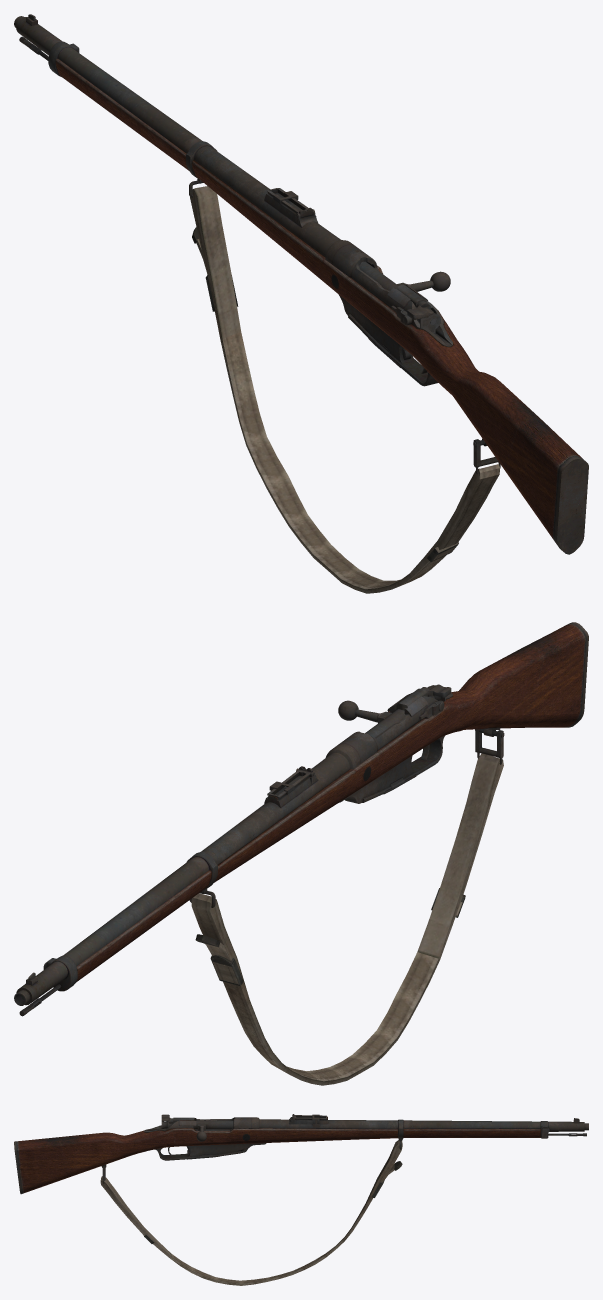
File: hanyang.glb
3 renders of one model, top to bottom at view 1: azimuth 30°, elevation 25°; view 2: azimuth 150°, elevation 25°; view 3: azimuth 270°, elevation 25°, orthographic. The views are drawn at different scales.
Visible parts, largest first — view 1: hanyang-body, hanyang-sling, hanyang-bolt-mesh; view 2: hanyang-body, hanyang-sling, hanyang-bolt-mesh; view 3: hanyang-body, hanyang-sling, hanyang-bolt-mesh.
Boxes of the visible parts, x1=… form: hanyang-body: x1=14, y1=14, x2=588, y2=554; hanyang-sling: x1=190, y1=186, x2=500, y2=593; hanyang-bolt-mesh: x1=359, y1=261, x2=450, y2=333; hanyang-body: x1=14, y1=622, x2=588, y2=1016; hanyang-sling: x1=191, y1=753, x2=503, y2=1085; hanyang-bolt-mesh: x1=338, y1=684, x2=451, y2=737; hanyang-body: x1=14, y1=1114, x2=588, y2=1194; hanyang-sling: x1=100, y1=1140, x2=402, y2=1285; hanyang-bolt-mesh: x1=161, y1=1114, x2=233, y2=1141.
Bounding box in the file's own units: 0.096 × 0.4118 × 1.25.
Materials: 3 (3 with a texture image).
